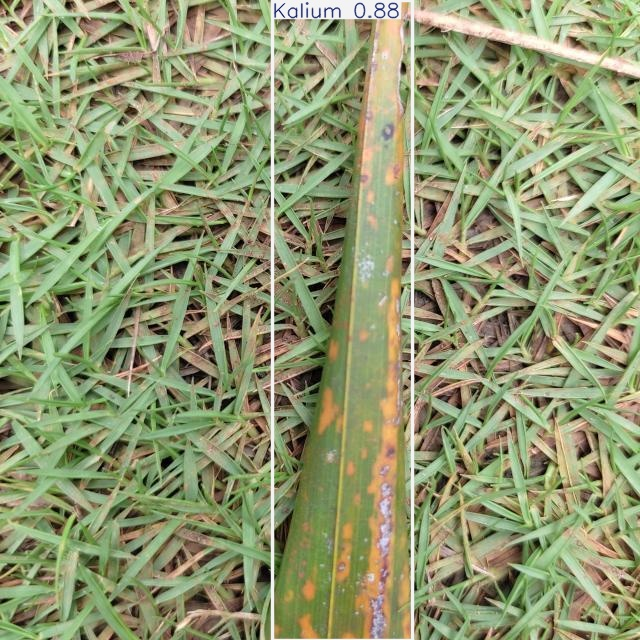Kalium: (273, 0, 412, 640)
